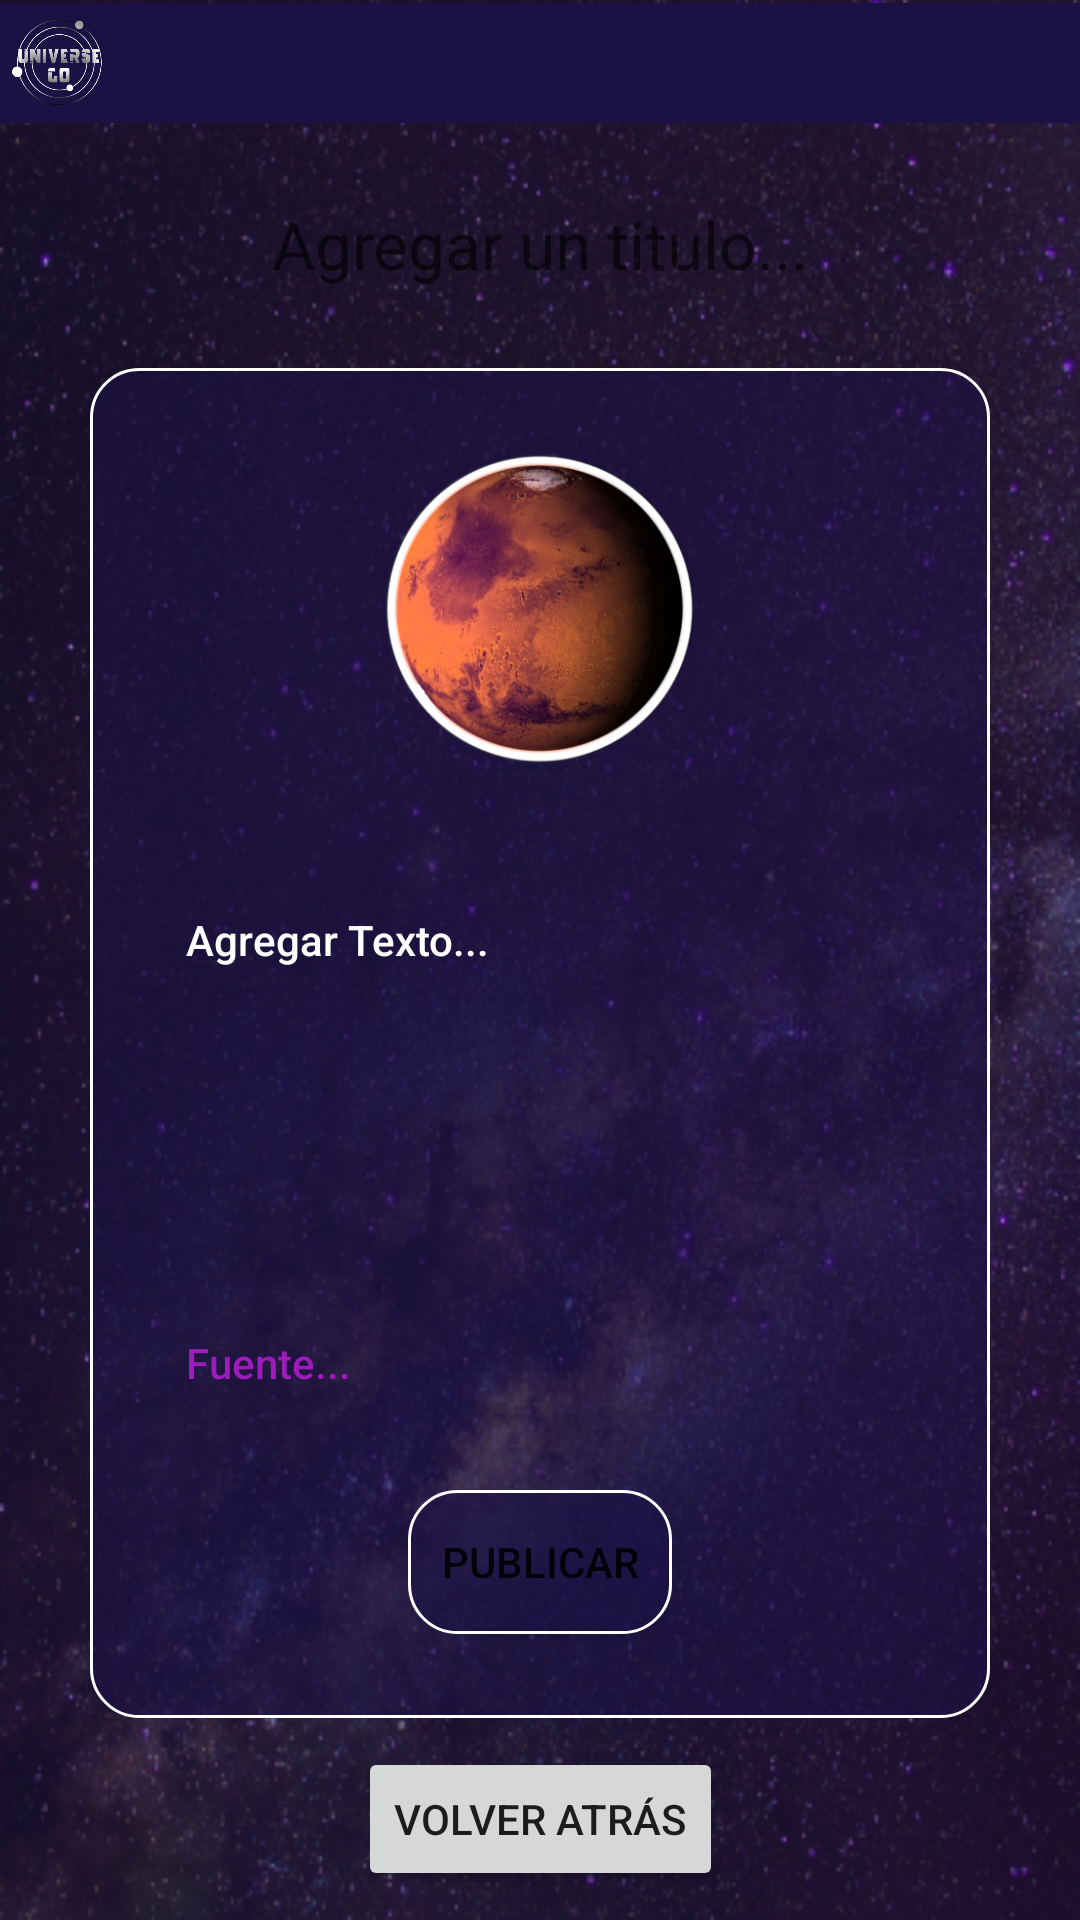

Icon bounding boxes for this 1080*1920 phone screenshot, format (x1, y1, x2, y2):
planeta marte: (376, 428, 717, 779)
